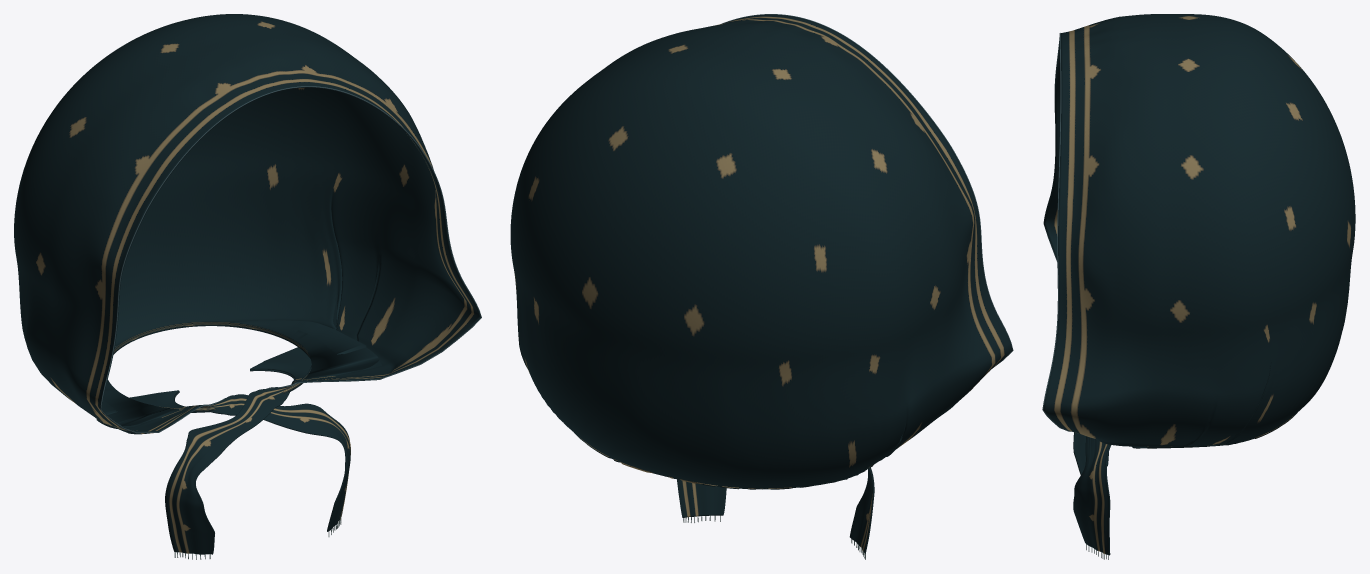
The model's file is Feminine-side-sweep-jersey-pashmina250-headgear.glb.
3 views of the same model, side by side, from view 1: azimuth 30°, elevation 25°; view 2: azimuth 150°, elevation 25°; view 3: azimuth 270°, elevation 25° (orthographic). The views are drawn at different scales.
Parts seen in each view (by area): view 1: 226 headgear / Headwear / continuous woven pashmina239, 226 headgear / Headwear / face edge239; view 2: 226 headgear / Headwear / continuous woven pashmina239, 226 headgear / Headwear / face edge239; view 3: 226 headgear / Headwear / continuous woven pashmina239, 226 headgear / Headwear / face edge239.
Boxes of the visible parts, x1,y1,x2,y2 form: 226 headgear / Headwear / continuous woven pashmina239: (14,14,480,554); 226 headgear / Headwear / face edge239: (100,86,481,433); 226 headgear / Headwear / continuous woven pashmina239: (510,14,1012,553); 226 headgear / Headwear / face edge239: (721,14,1013,368); 226 headgear / Headwear / continuous woven pashmina239: (1043,14,1355,555); 226 headgear / Headwear / face edge239: (1042,33,1070,431).
Size of the model in its own units: 1.15 by 1.39 by 0.8109.
3 materials, 1 textured.
